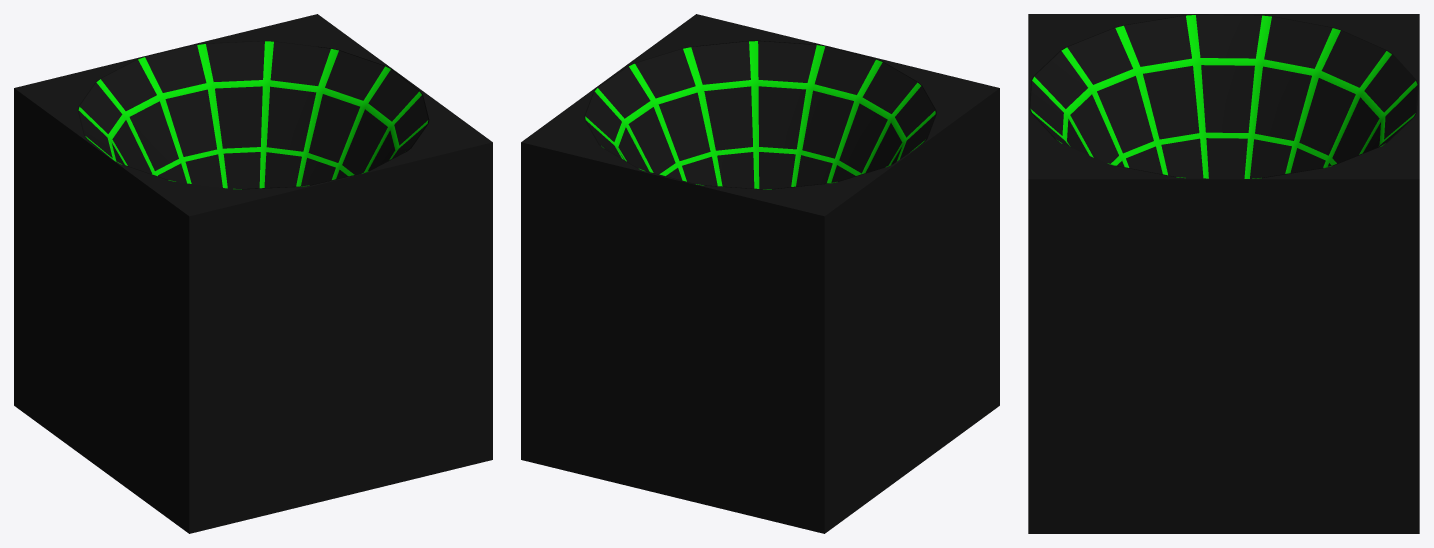
File: Buraco_R02.fbx
The picture shows the model from 3 angles, left to right: view 1: azimuth 30°, elevation 25°; view 2: azimuth 150°, elevation 25°; view 3: azimuth 270°, elevation 25°; orthographic projection. The views are drawn at different scales.
Parts seen in each view (by area): view 1: pCone4, pCone1; view 2: pCone4, pCone1; view 3: pCone4, pCone1.
Part boxes in pixels (x1,y1,x2,y2): pCone4: (14,14,492,533); pCone1: (78,41,428,189); pCone4: (521,14,999,533); pCone1: (585,41,935,189); pCone4: (1028,14,1419,533); pCone1: (1030,15,1417,178).
Bounding box in the file's own units: 1 × 1 × 1.
